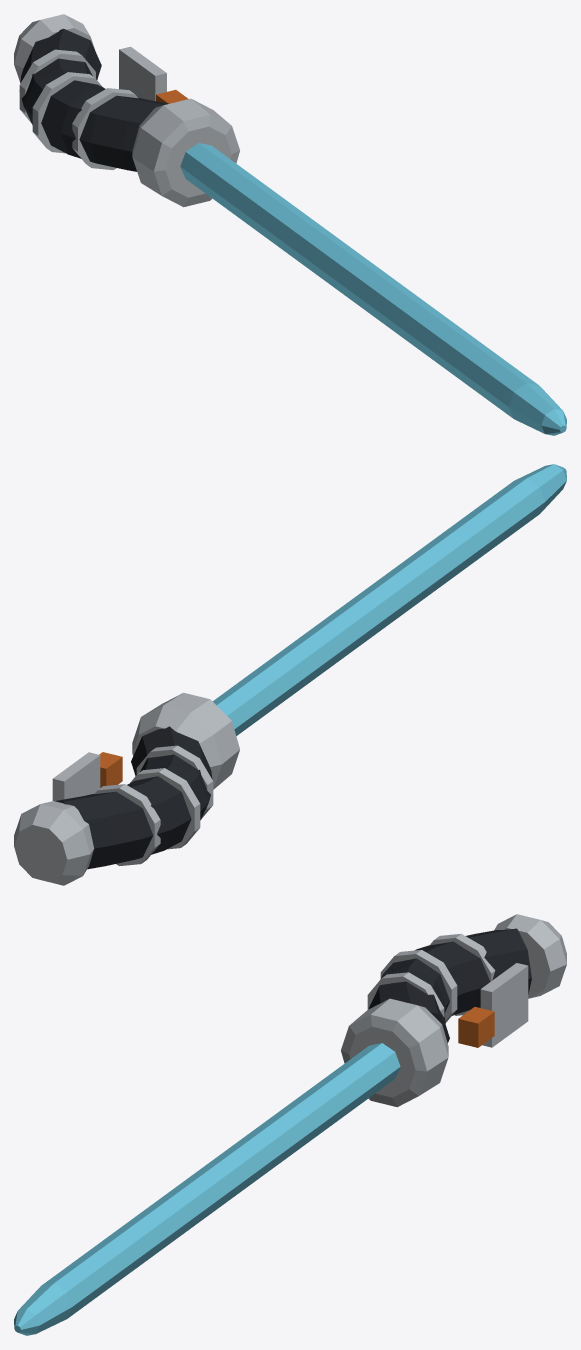
File: saber-curved.glb
3 renders of one model, top to bottom at view 1: azimuth 30°, elevation 25°; view 2: azimuth 150°, elevation 25°; view 3: azimuth 330°, elevation 25°, orthographic.
Visible parts, largest first — view 1: m; view 2: m; view 3: m.
Part boxes in pixels (box(x1,y1,x2,y2)): m: box(14, 14, 566, 435); m: box(14, 464, 566, 885); m: box(14, 914, 566, 1335).
Size of the model in its own units: 0.0371 by 0.0251 by 0.2668.
